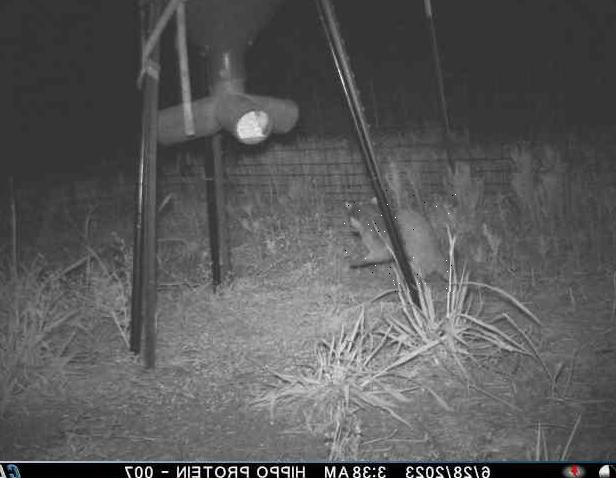Raccoon: (340, 190, 462, 292)
